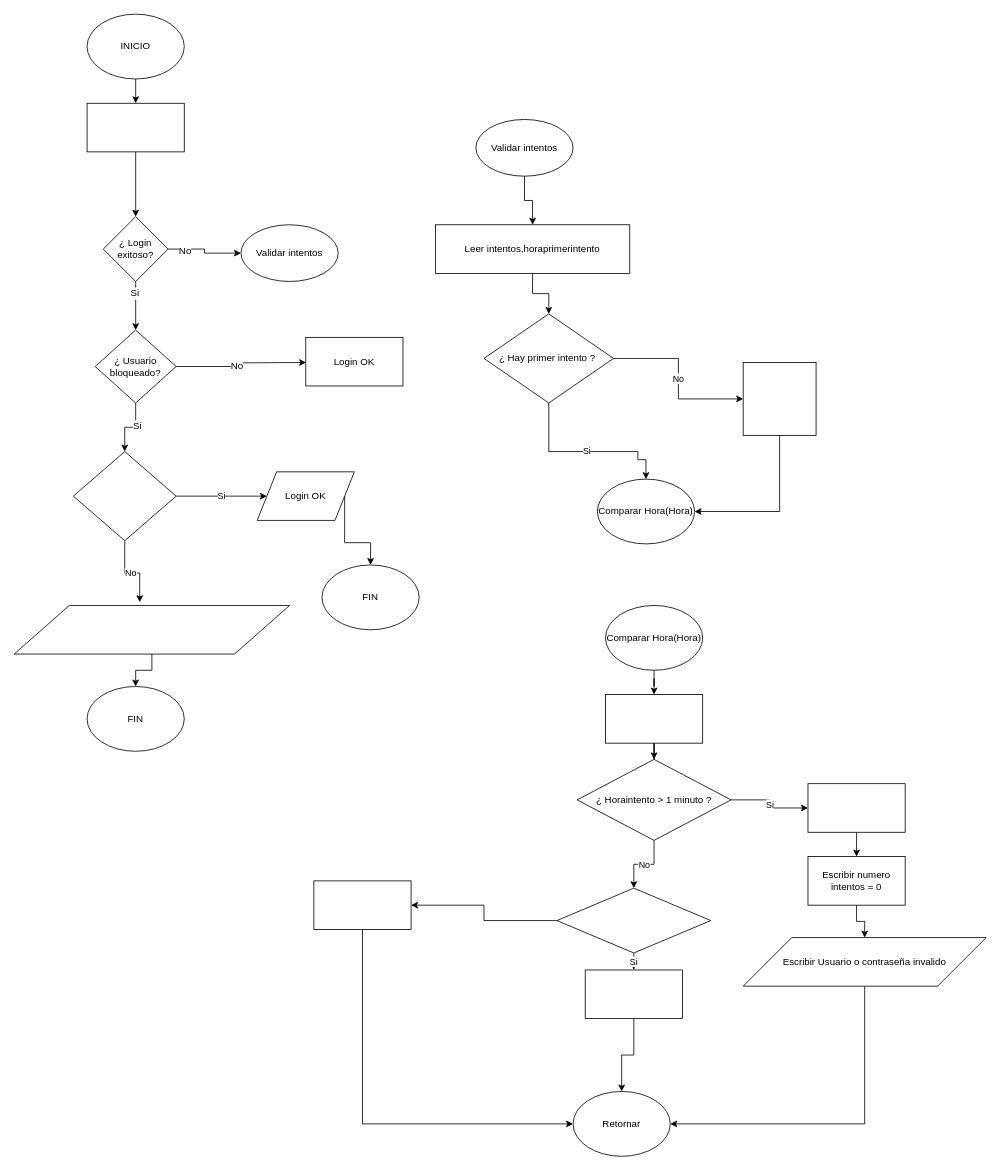
This 1000x1170 diagram has some shape labels left out. The shapes that lost their labels are listed below. From the top down, each one's centre as x and y in pixels, then its label:
point (135, 127): Leer email, clave
point (779, 398): Escribir hora primer intento
point (124, 496): ¿ lockUntil > 3min ?
point (151, 629): La cuenta esta bloqueado espere 3 minutos
point (654, 718): leer hora intento
point (856, 807): Escribir hora intento = now()
point (362, 904): incrementar numero intentos
point (633, 920): ¿ numero intentos > 10 ?
point (633, 994): Bloquear la cuenta
